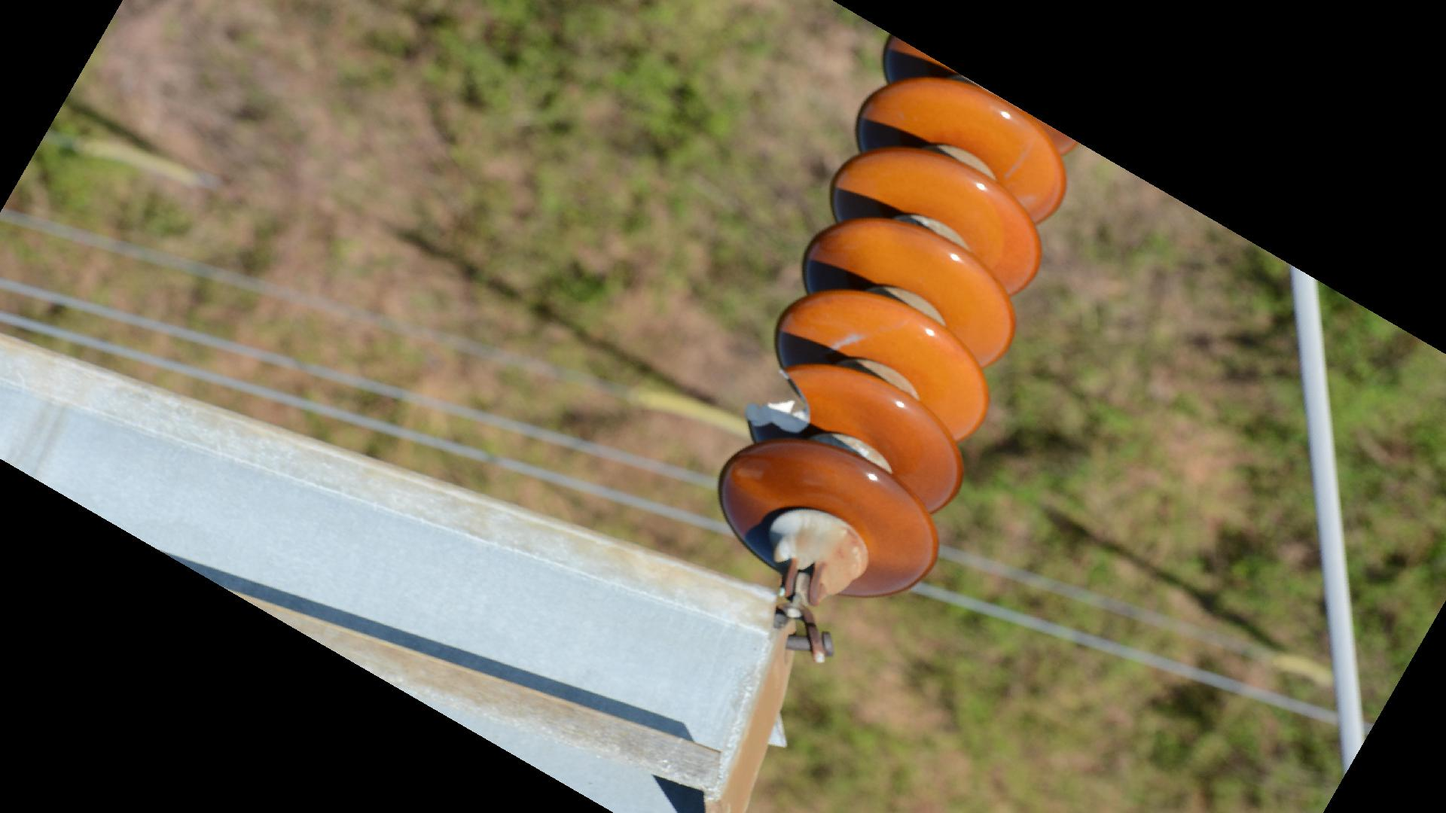insulator: (712, 32, 1084, 610)
insulator_breakage: (739, 363, 823, 446)
